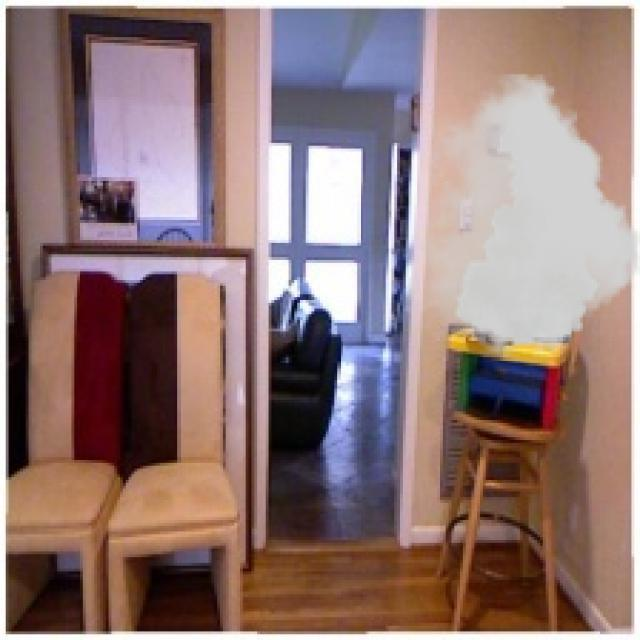Smoke: (422, 74, 638, 360)
